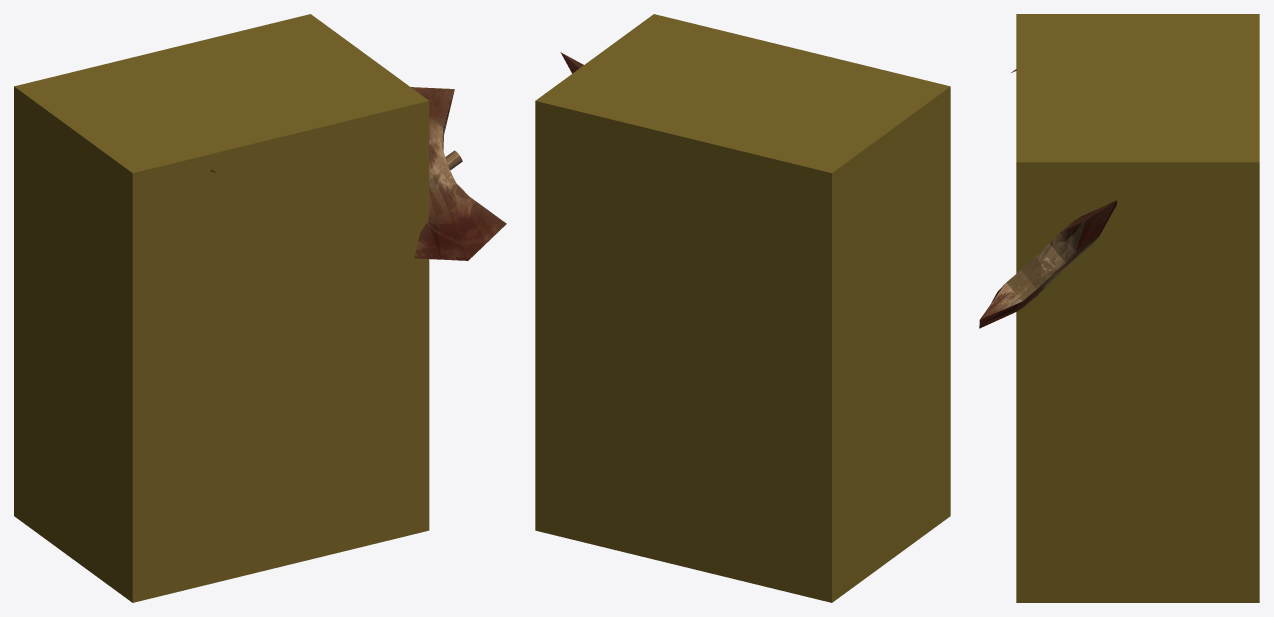
Rendered from minotaver5-1.gltf.
The picture shows the model from 3 angles, left to right: view 1: azimuth 30°, elevation 25°; view 2: azimuth 150°, elevation 25°; view 3: azimuth 270°, elevation 25°; orthographic projection. The views are drawn at different scales.
Visible parts, largest first — view 1: Trigger, Cube.009; view 2: Trigger; view 3: Trigger, Cube.009.
Boxes of the visible parts, x1,y1,x2,y2 form: Trigger: (14, 14, 429, 602); Cube.009: (411, 87, 506, 260); Trigger: (535, 14, 950, 602); Trigger: (1016, 14, 1259, 602); Cube.009: (979, 200, 1116, 328).
Bounding box in the file's own units: 10.18 × 11.73 × 6.76.
7 materials, 7 textured.
